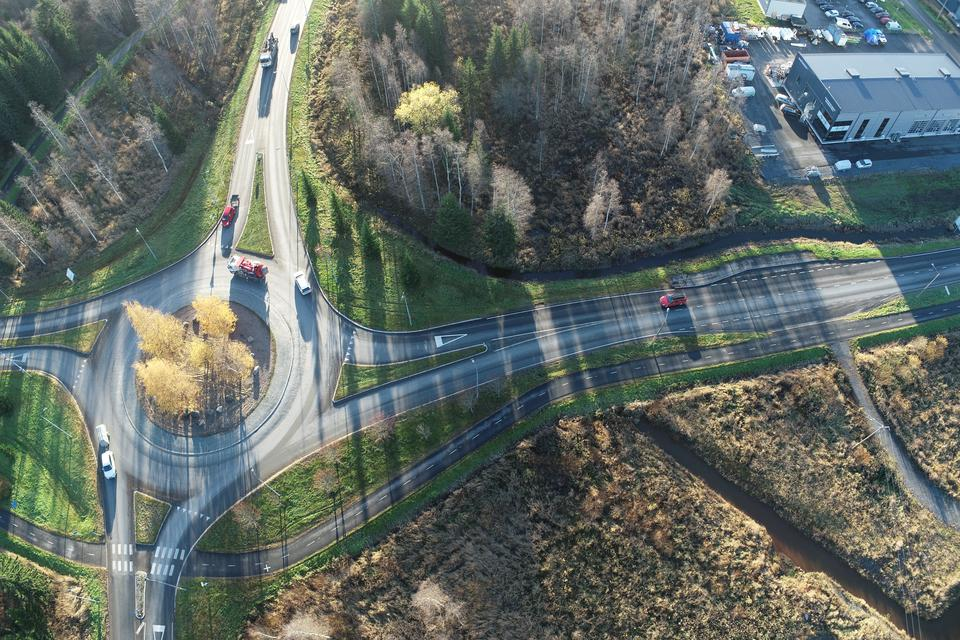intersection: (787, 229, 885, 392), (76, 526, 228, 610)
roundabout: (42, 236, 380, 513)
